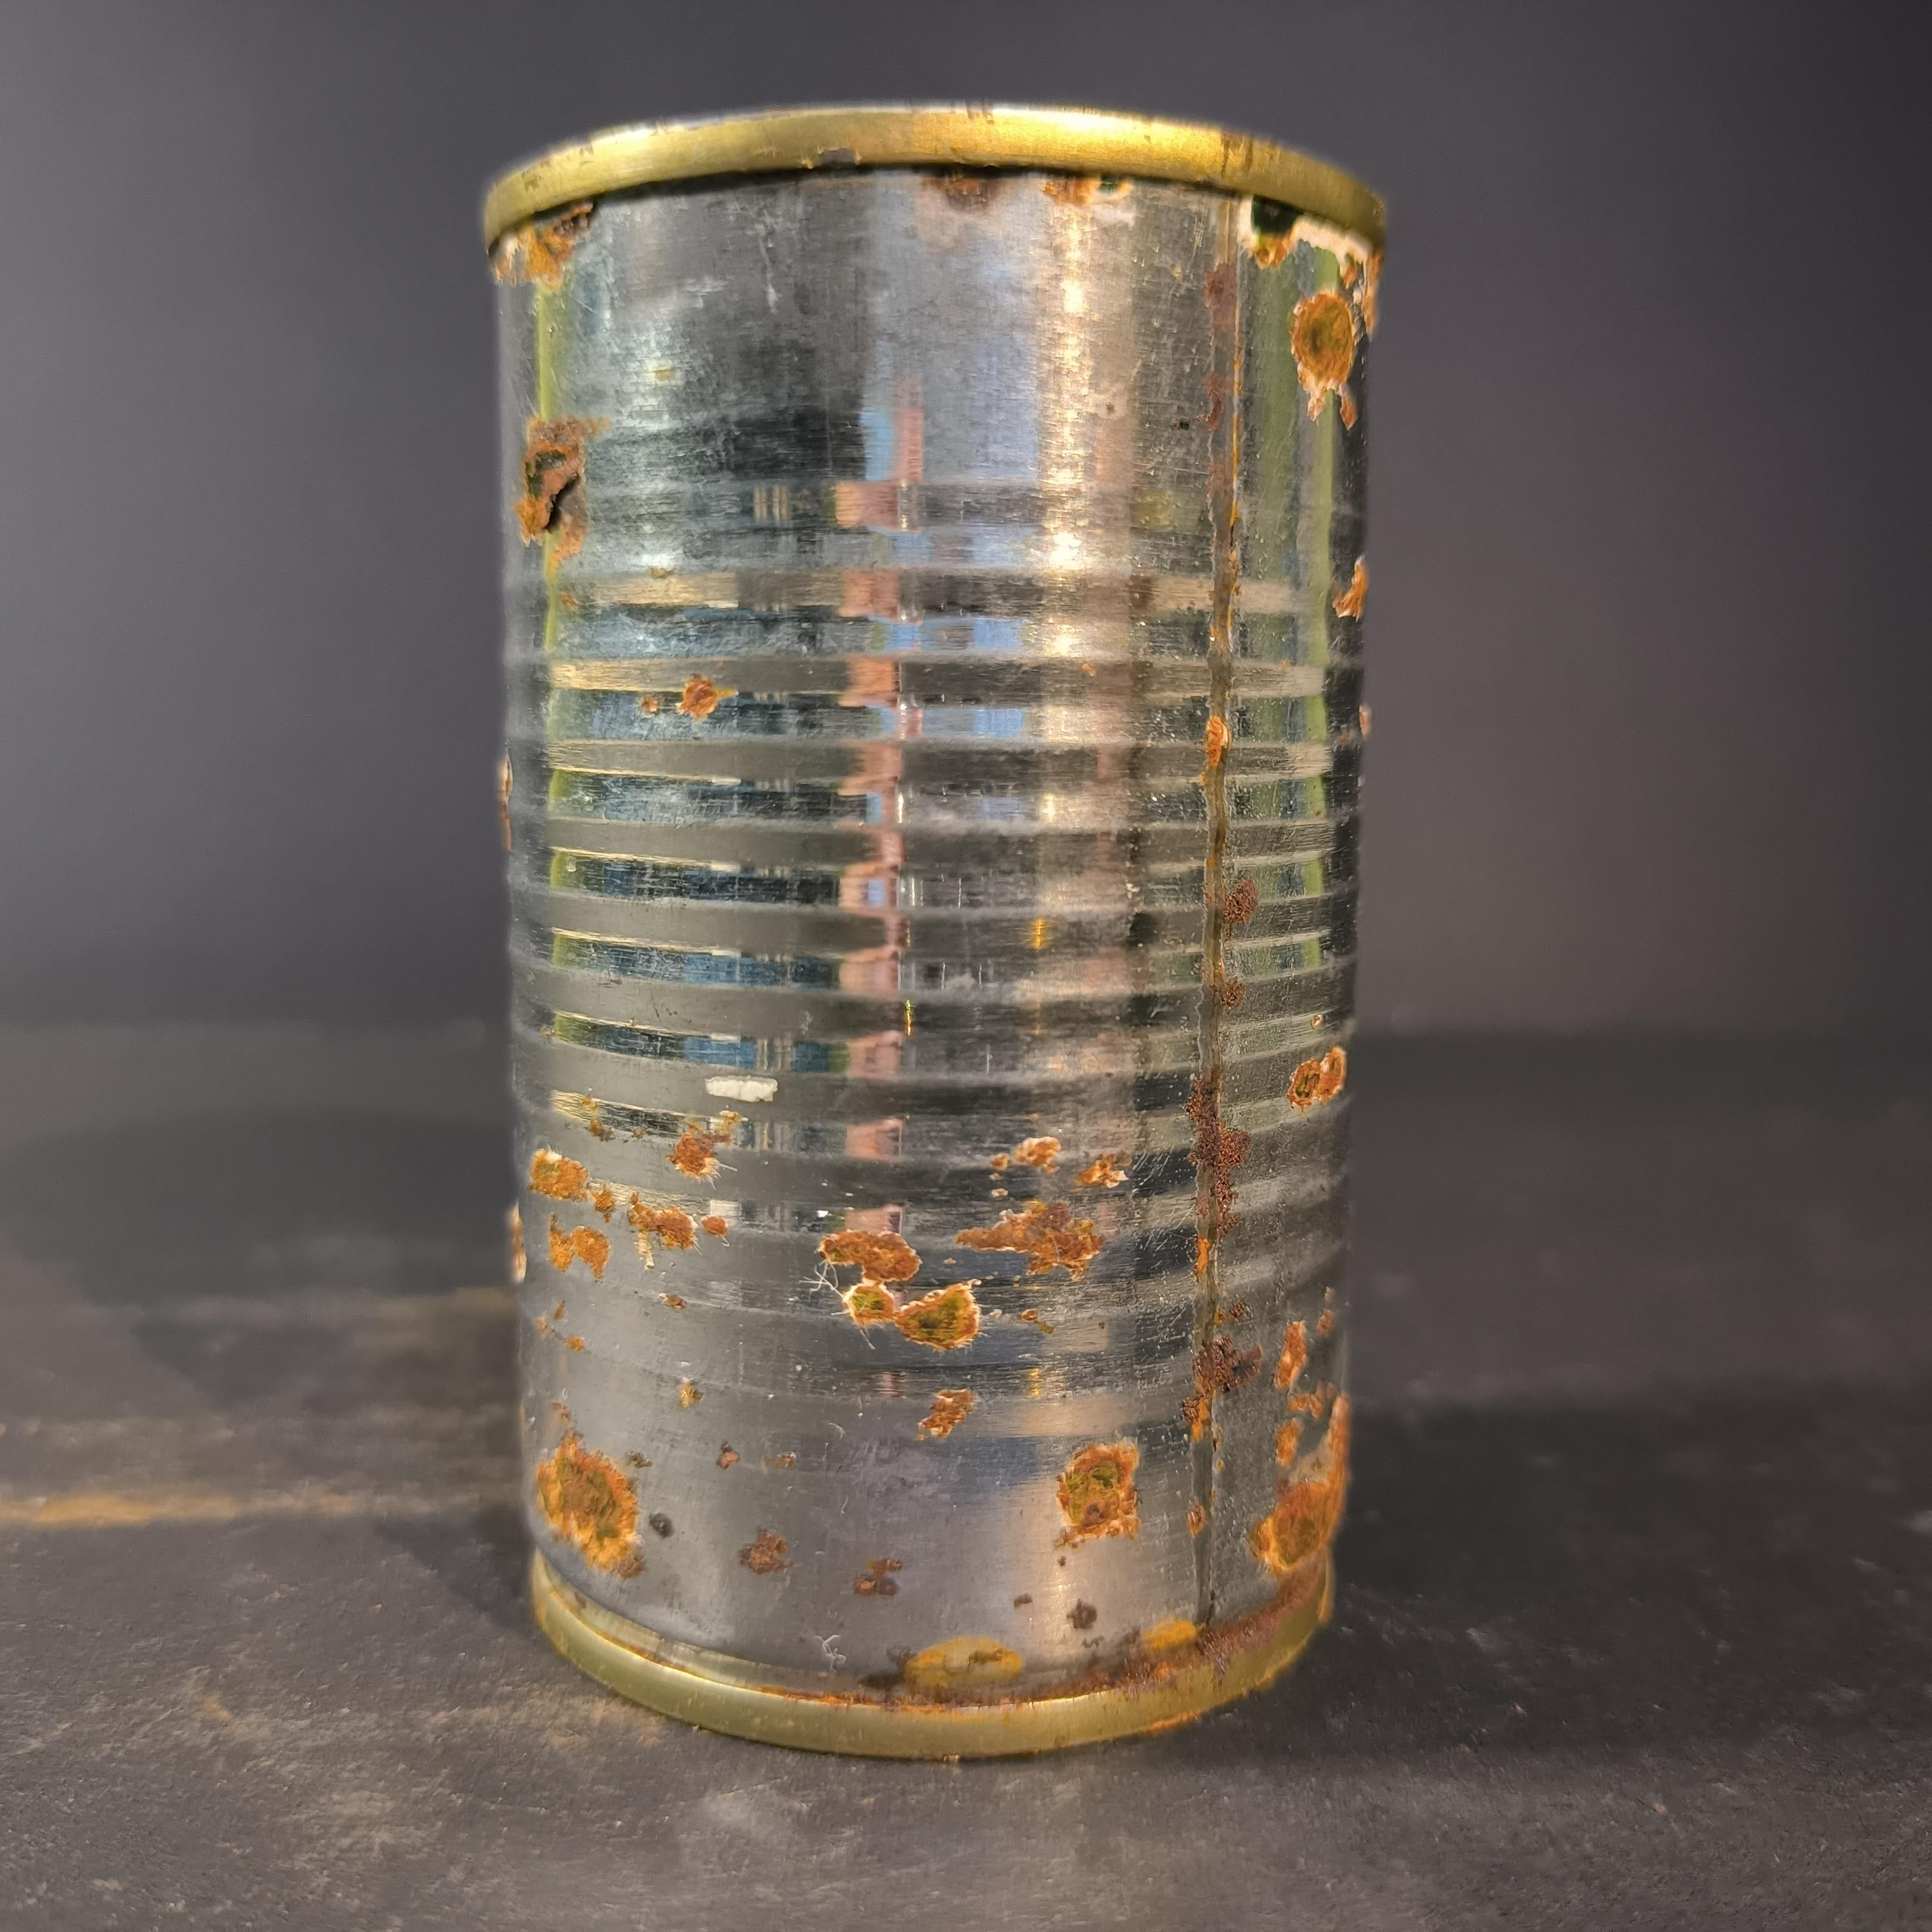Major Defect: (481, 101, 1399, 1762)
